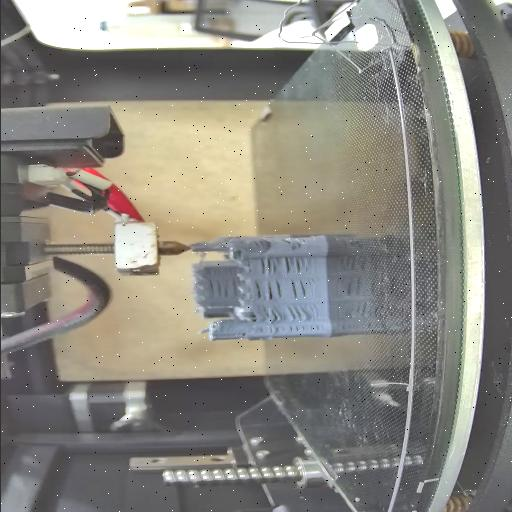cracks: (259, 324, 325, 336), (252, 277, 280, 301), (208, 276, 238, 298), (254, 306, 280, 324), (290, 278, 313, 298), (284, 305, 312, 321), (284, 258, 310, 274), (257, 258, 279, 276), (246, 239, 268, 247), (278, 238, 296, 246), (233, 331, 251, 335)
